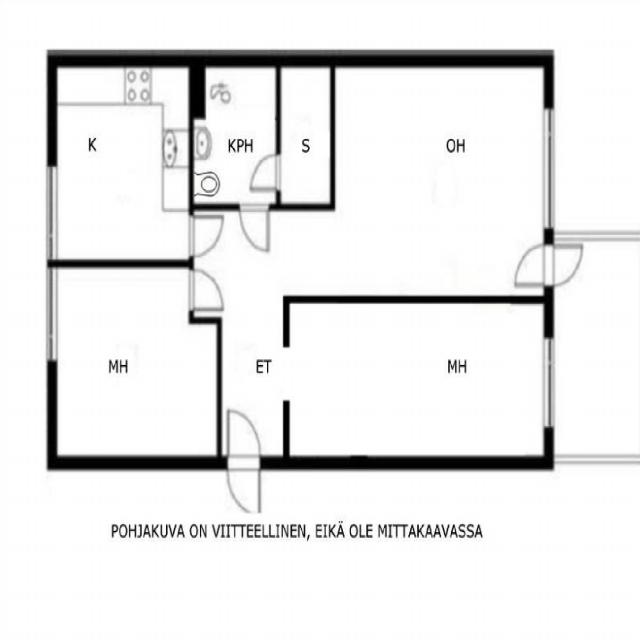door: (227, 409, 260, 470), (227, 456, 260, 516), (514, 244, 554, 286), (544, 244, 583, 286), (240, 205, 269, 252), (189, 270, 221, 310), (189, 216, 221, 256), (252, 154, 280, 190)
